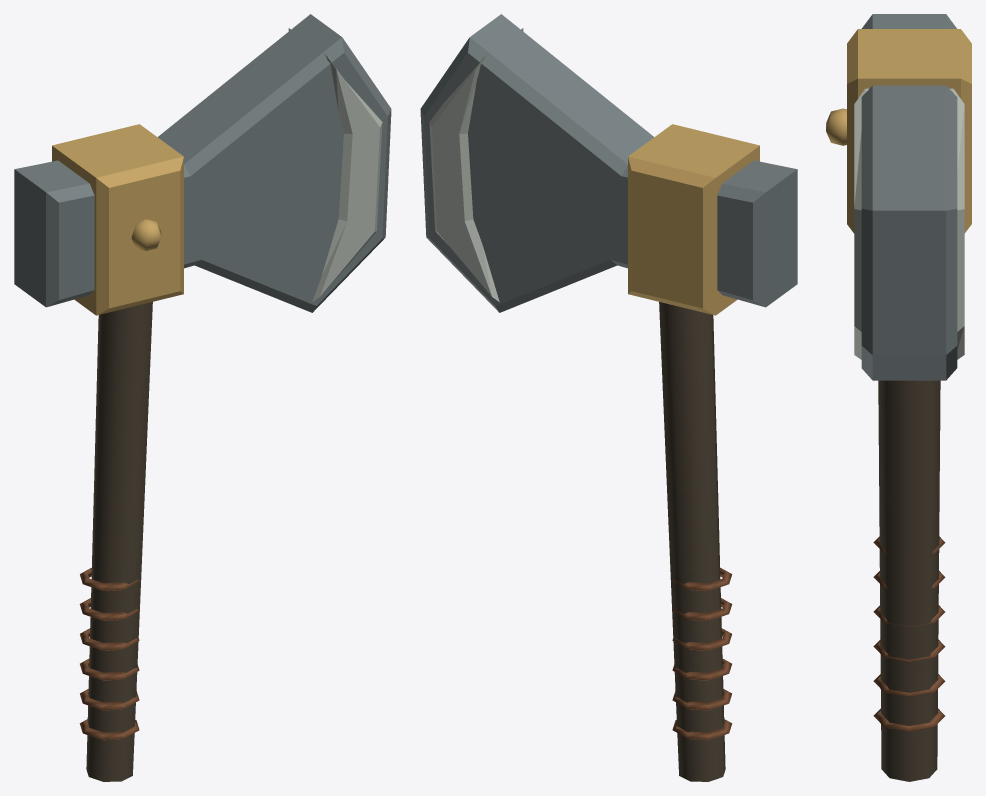
Rendered from traveler_axe.glb.
The picture shows the model from 3 angles, left to right: view 1: azimuth 30°, elevation 25°; view 2: azimuth 150°, elevation 25°; view 3: azimuth 270°, elevation 25°; orthographic projection. The views are drawn at different scales.
Parts seen in each view (by area): view 1: iron_109, bark_102, gold_111, edge_110, gold_112; view 2: iron_109, bark_102, gold_111, edge_110; view 3: iron_109, bark_102, gold_111, edge_110, gold_112, leather_103, leather_104, leather_105.
Boxes of the visible parts, left/top/right/bottom form: iron_109: left=14, top=14, right=391, bottom=312; bark_102: left=86, top=302, right=152, bottom=781; gold_111: left=52, top=124, right=183, bottom=315; edge_110: left=288, top=28, right=382, bottom=301; gold_112: left=131, top=219, right=161, bottom=250; iron_109: left=420, top=14, right=797, bottom=312; bark_102: left=659, top=302, right=725, bottom=781; gold_111: left=628, top=124, right=759, bottom=315; edge_110: left=429, top=28, right=523, bottom=301; iron_109: left=861, top=14, right=957, bottom=380; bark_102: left=878, top=380, right=940, bottom=781; gold_111: left=847, top=29, right=971, bottom=233; edge_110: left=854, top=88, right=964, bottom=359; gold_112: left=826, top=108, right=846, bottom=145; leather_103: left=873, top=708, right=944, bottom=731; leather_104: left=873, top=674, right=945, bottom=696; leather_105: left=873, top=639, right=945, bottom=661.
Bounding box in the file's own units: 0.6299 × 1.21 × 0.1984.
